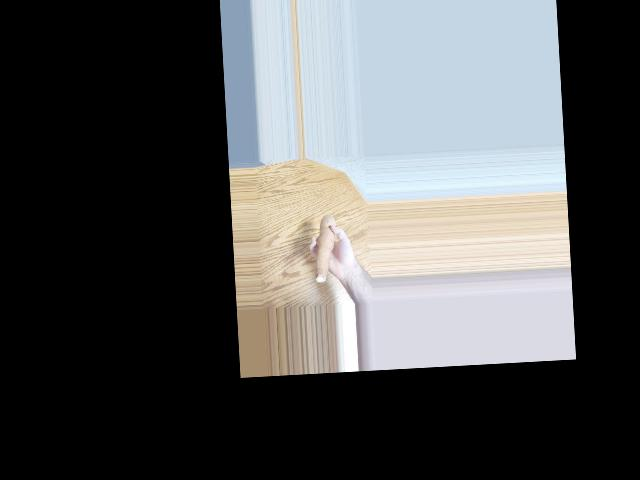sweet_potato: (310, 211, 335, 288)
